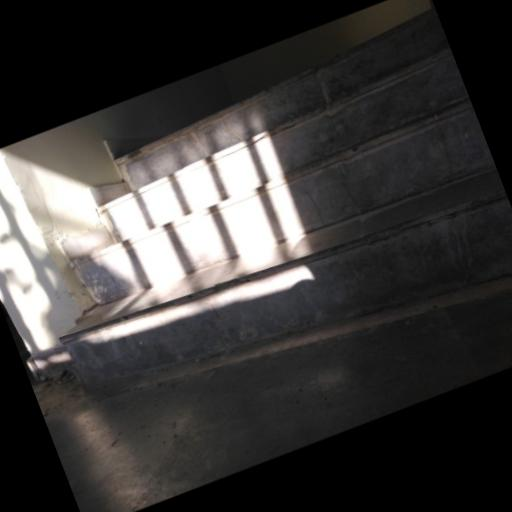stairs: (61, 10, 511, 390)
